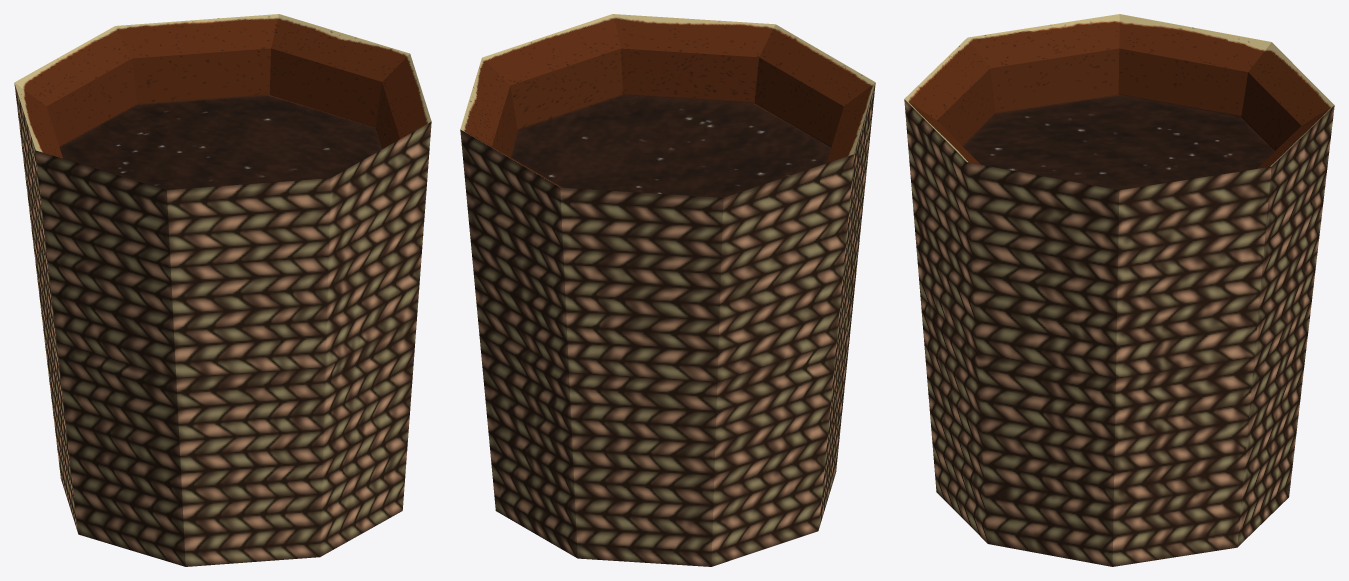
The model's file is huapen.fbx.
3 views of the same model, side by side, from view 1: azimuth 30°, elevation 25°; view 2: azimuth 150°, elevation 25°; view 3: azimuth 270°, elevation 25° (orthographic).
Parts seen in each view (by area): view 1: polySurface40; view 2: polySurface40; view 3: polySurface40.
Boxes of the visible parts, x1=… form: polySurface40: x1=14, y1=14, x2=431, y2=566; polySurface40: x1=460, y1=14, x2=875, y2=566; polySurface40: x1=904, y1=14, x2=1334, y2=566.
Size of the model in its own units: 2 by 2.04 by 2.
